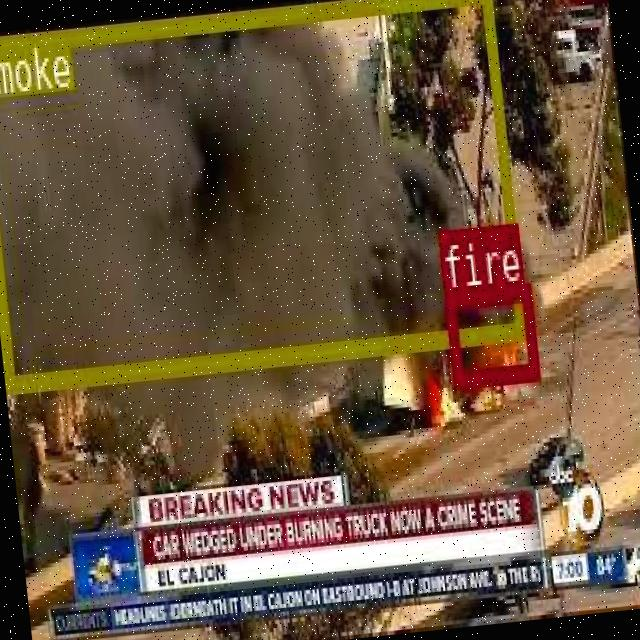fire: (442, 280, 536, 383)
smoke: (0, 0, 524, 387)
